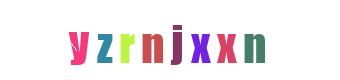J: (137, 0, 217, 80)
N: (130, 0, 210, 80), (160, 0, 240, 80)
R: (128, 0, 208, 80)
X: (144, 0, 224, 80), (156, 0, 236, 80)
Y: (47, 0, 127, 80)
Z: (86, 0, 166, 80)
